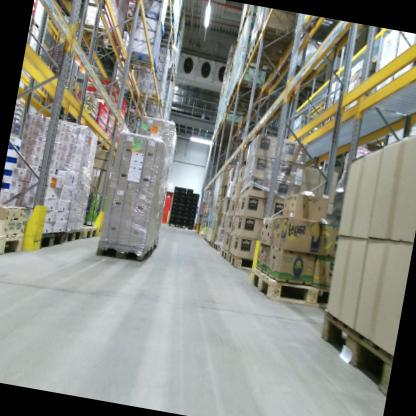pallet: (310, 308, 399, 400), (247, 262, 334, 312), (96, 227, 160, 265), (72, 15, 124, 55), (117, 46, 160, 79), (255, 20, 299, 47), (0, 224, 25, 271), (243, 45, 282, 75), (36, 223, 69, 257), (134, 84, 166, 109), (47, 0, 110, 12), (224, 249, 256, 272), (233, 79, 265, 99), (61, 223, 85, 249), (158, 26, 177, 47), (160, 5, 179, 26), (81, 223, 97, 243), (218, 244, 230, 261), (210, 237, 222, 253), (207, 234, 214, 247)
